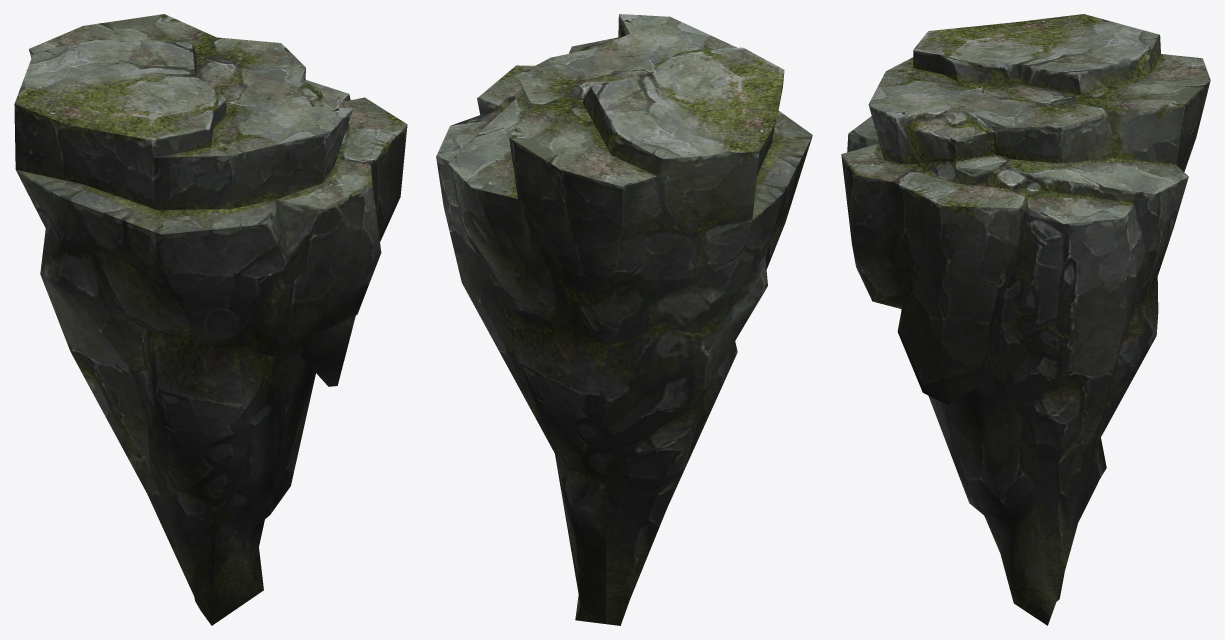
The model's file is dx_shitou_13.FBX.
3 renders of one model, left to right at view 1: azimuth 30°, elevation 25°; view 2: azimuth 150°, elevation 25°; view 3: azimuth 270°, elevation 25°, orthographic. The views are drawn at different scales.
Visible parts, largest first — view 1: dx_shitou_13; view 2: dx_shitou_13; view 3: dx_shitou_13.
Part boxes in pixels (box(x1,y1,x2,y2)): dx_shitou_13: box(14, 14, 407, 625); dx_shitou_13: box(436, 14, 812, 625); dx_shitou_13: box(841, 14, 1210, 625).
Bounding box in the file's own units: 370 × 614 × 381.
